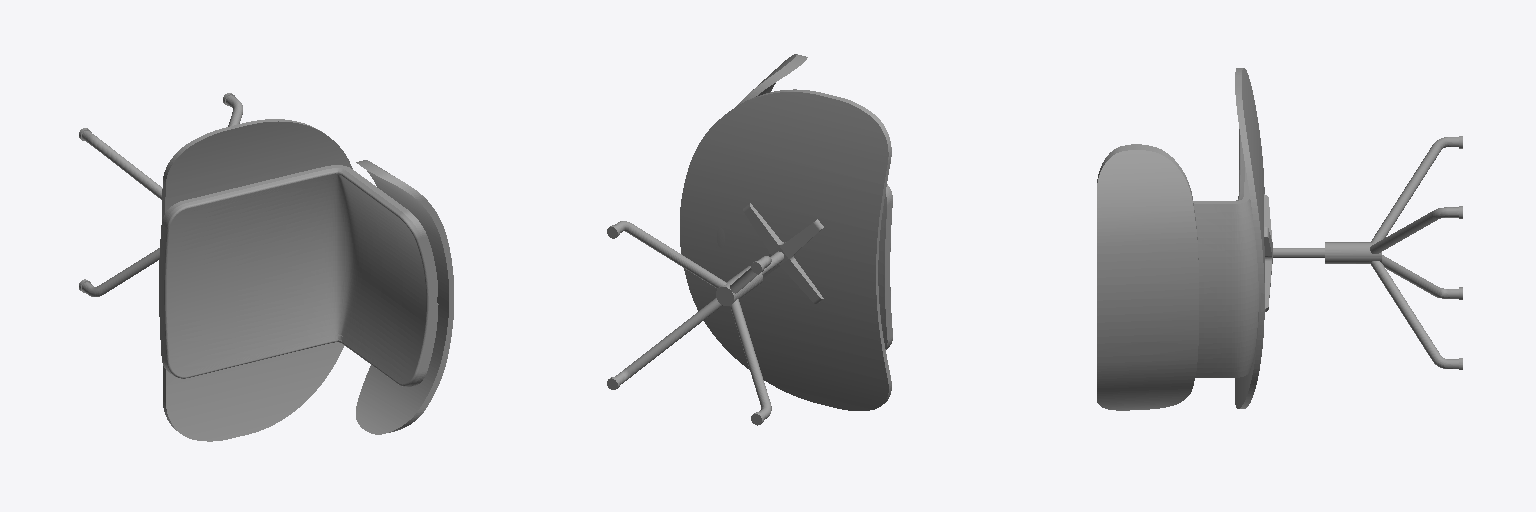
File: full-chair.obj
3 renders of one model, left to right at view 1: azimuth 30°, elevation 25°; view 2: azimuth 150°, elevation 25°; view 3: azimuth 270°, elevation 25°, orthographic.
Visible parts, largest first — view 1: a8798a9b-e971-459f-8711-3e3fe[number redacted]_mesh-a8798a9b-e971-459f-871, a1227a9f-3ced-4aa0-8b8b-ff7e8e92b1ce_mesh-a1227a9f-3ced-4aa0-8b8, f0e183a9-a341-44f3-947a-8b43f98f46db_mesh-f0e183a9-a341-44f3-947, aaf479dd-2525-4c78-bec3-a45c829f2381_mesh-aaf479dd-2525-4c78-bec; view 2: a1227a9f-3ced-4aa0-8b8b-ff7e8e92b1ce_mesh-a1227a9f-3ced-4aa0-8b8, aaf479dd-2525-4c78-bec3-a45c829f2381_mesh-aaf479dd-2525-4c78-bec, aa19ec59-d9a1-4f31-87f4-00cffc873081_mesh-aa19ec59-d9a1-4f31-87f, f0e183a9-a341-44f3-947a-8b43f98f46db_mesh-f0e183a9-a341-44f3-947; view 3: f0e183a9-a341-44f3-947a-8b43f98f46db_mesh-f0e183a9-a341-44f3-947, a1227a9f-3ced-4aa0-8b8b-ff7e8e92b1ce_mesh-a1227a9f-3ced-4aa0-8b8, aaf479dd-2525-4c78-bec3-a45c829f2381_mesh-aaf479dd-2525-4c78-bec, aa19ec59-d9a1-4f31-87f4-00cffc873081_mesh-aa19ec59-d9a1-4f31-87f.
Boxes of the visible parts, <box> form: a8798a9b-e971-459f-8711-3e3fe[number redacted]_mesh-a8798a9b-e971-459f-871: <box>162,93,432,386</box>; a1227a9f-3ced-4aa0-8b8b-ff7e8e92b1ce_mesh-a1227a9f-3ced-4aa0-8b8: <box>159,119,438,441</box>; f0e183a9-a341-44f3-947a-8b43f98f46db_mesh-f0e183a9-a341-44f3-947: <box>79,128,453,434</box>; aaf479dd-2525-4c78-bec3-a45c829f2381_mesh-aaf479dd-2525-4c78-bec: <box>79,94,242,296</box>; a1227a9f-3ced-4aa0-8b8b-ff7e8e92b1ce_mesh-a1227a9f-3ced-4aa0-8b8: <box>680,89,891,410</box>; aaf479dd-2525-4c78-bec3-a45c829f2381_mesh-aaf479dd-2525-4c78-bec: <box>609,221,771,425</box>; aa19ec59-d9a1-4f31-87f4-00cffc873081_mesh-aa19ec59-d9a1-4f31-87f: <box>607,203,823,389</box>; f0e183a9-a341-44f3-947a-8b43f98f46db_mesh-f0e183a9-a341-44f3-947: <box>736,54,807,273</box>; f0e183a9-a341-44f3-947a-8b43f98f46db_mesh-f0e183a9-a341-44f3-947: <box>1097,136,1462,410</box>; a1227a9f-3ced-4aa0-8b8b-ff7e8e92b1ce_mesh-a1227a9f-3ced-4aa0-8b8: <box>1193,68,1264,408</box>; aaf479dd-2525-4c78-bec3-a45c829f2381_mesh-aaf479dd-2525-4c78-bec: <box>1325,137,1462,368</box>; aa19ec59-d9a1-4f31-87f4-00cffc873081_mesh-aa19ec59-d9a1-4f31-87f: <box>1264,194,1462,369</box>.
Size of the model in its own units: 0.5792 by 0.8 by 0.8605.